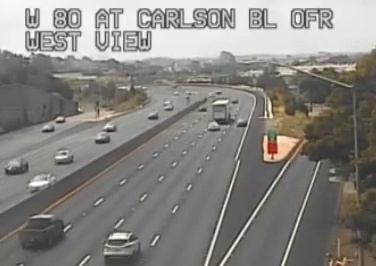car: (19, 215, 63, 247), (103, 232, 139, 256)
truck: (211, 99, 230, 125)
